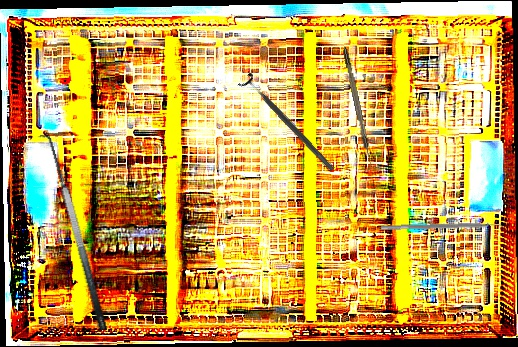Fixation Ring: (237, 71, 340, 177)
Hook Surgical: (342, 46, 374, 170)
Spatula Surgical: (32, 130, 110, 336), (380, 220, 508, 236)
